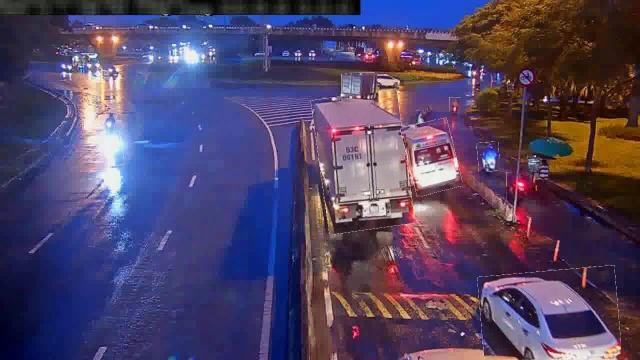Bike: (477, 142, 499, 172), (106, 130, 124, 166), (506, 172, 526, 200), (104, 108, 116, 132), (450, 98, 460, 112)
Bus: (404, 120, 460, 194)
Car: (478, 268, 620, 360)
Truck: (316, 92, 410, 232), (342, 73, 378, 103)
